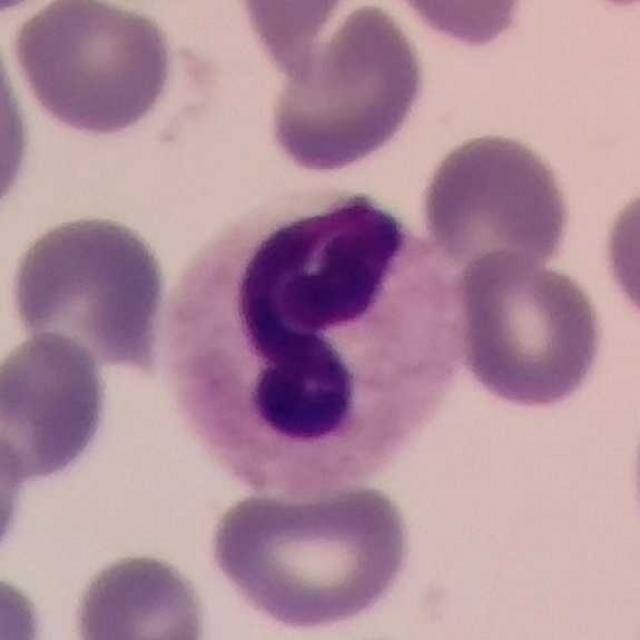Neutrophil: (156, 176, 454, 503)
RBC: (202, 475, 418, 636), (259, 0, 432, 179), (3, 209, 174, 373), (447, 250, 609, 414), (8, 0, 179, 141), (416, 126, 576, 275), (0, 327, 114, 488), (65, 546, 213, 640), (232, 0, 385, 87), (373, 0, 535, 50), (0, 14, 37, 230), (596, 176, 640, 342), (229, 0, 354, 50), (0, 415, 30, 569), (0, 567, 50, 640)
